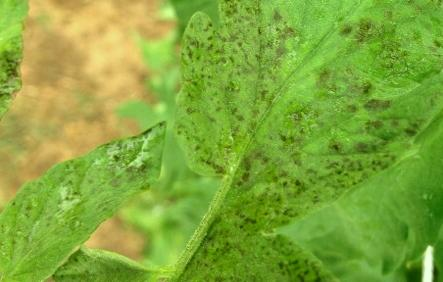Tomato Septoria leaf spot: (189, 0, 443, 214), (0, 115, 159, 282), (76, 232, 361, 282)
